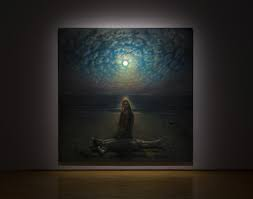moon: (121, 59, 129, 67)
